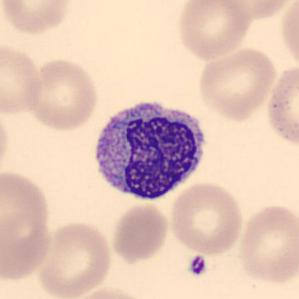Monocyte: (87, 92, 213, 208)
Platelets: (187, 254, 208, 278)
RBC: (0, 168, 55, 284), (34, 219, 114, 298), (195, 45, 278, 121), (22, 56, 100, 133), (168, 180, 245, 256), (235, 201, 299, 287), (175, 0, 253, 61), (109, 201, 171, 263), (0, 40, 45, 117), (263, 60, 299, 150), (0, 0, 74, 36), (216, 0, 298, 21), (278, 0, 299, 71), (63, 285, 153, 299), (0, 107, 12, 180)
